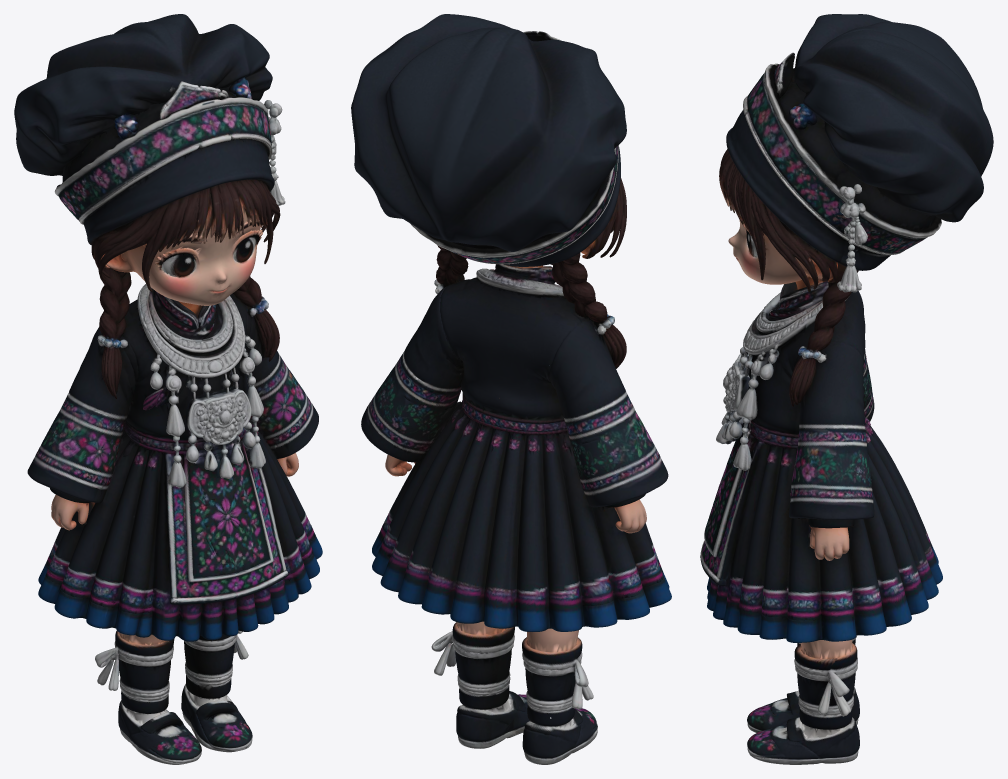
File: MiaoGirl_3.glb
3 views of the same model, side by side, from view 1: azimuth 30°, elevation 25°; view 2: azimuth 150°, elevation 25°; view 3: azimuth 270°, elevation 25° (orthographic). The views are drawn at different scales.
Parts seen in each view (by area): view 1: tripo_node_db06a30e-2293-42d9-a18c-f84074cfc8da; view 2: tripo_node_db06a30e-2293-42d9-a18c-f84074cfc8da; view 3: tripo_node_db06a30e-2293-42d9-a18c-f84074cfc8da.
Boxes of the visible parts, <box> form: tripo_node_db06a30e-2293-42d9-a18c-f84074cfc8da: <box>14,14,322,764</box>; tripo_node_db06a30e-2293-42d9-a18c-f84074cfc8da: <box>351,14,671,764</box>; tripo_node_db06a30e-2293-42d9-a18c-f84074cfc8da: <box>700,14,993,764</box>.
Size of the model in its own units: 0.417 by 0.98 by 0.3672.
Materials: 1 (1 with a texture image).
